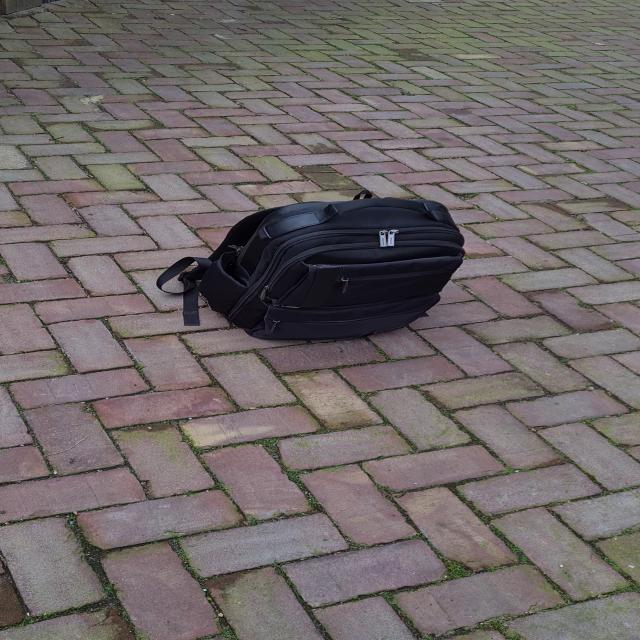backpack: (183, 190, 477, 345)
